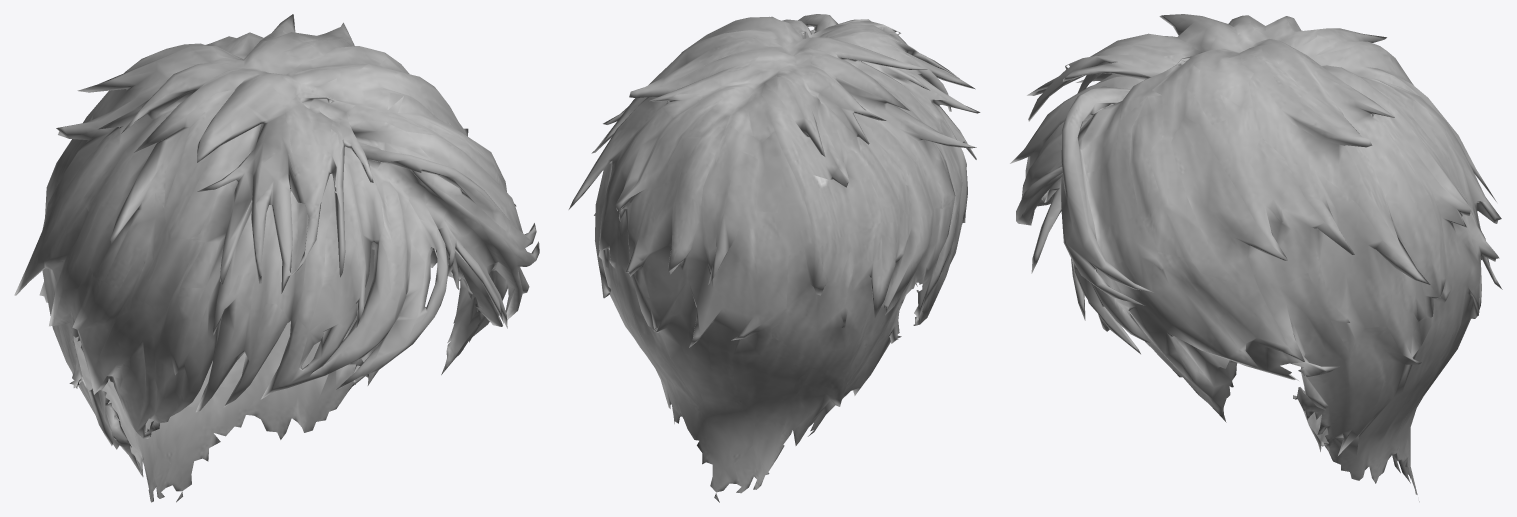
File: hair_short.glb
3 renders of one model, left to right at view 1: azimuth 30°, elevation 25°; view 2: azimuth 150°, elevation 25°; view 3: azimuth 270°, elevation 25°, orthographic. The views are drawn at different scales.
Visible parts, largest first — view 1: Hair; view 2: Hair; view 3: Hair.
Boxes of the visible parts, bbox=[...] form: Hair: bbox=[14, 14, 539, 502]; Hair: bbox=[568, 14, 980, 502]; Hair: bbox=[1010, 14, 1502, 501].
Bounding box in the file's own units: 0.9571 × 1.12 × 1.07.
1 material, 1 textured.
